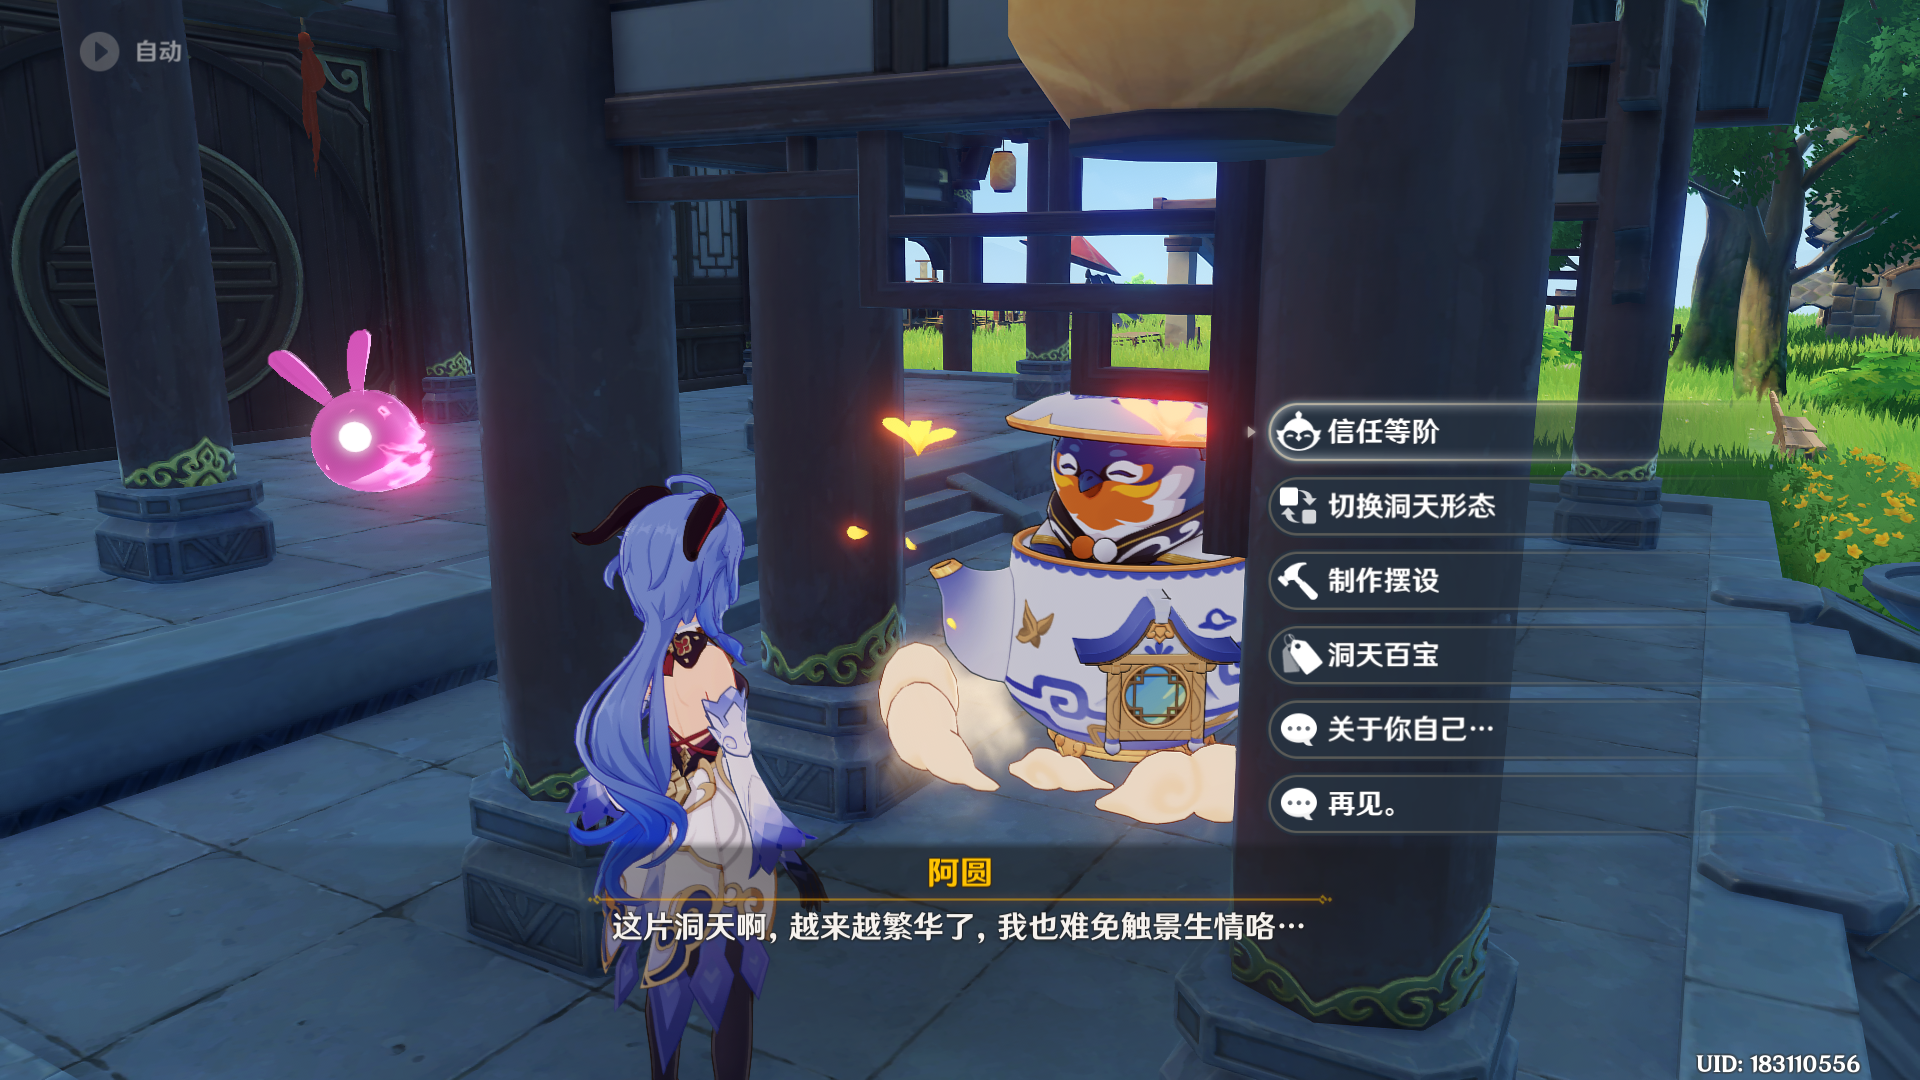character: (509, 435, 833, 1080)
